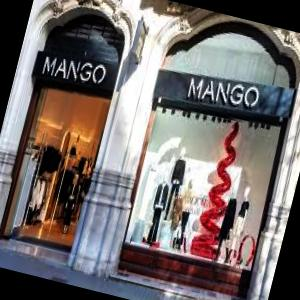mango: (181, 73, 264, 119), (37, 48, 110, 91)
